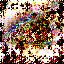

Layout of this report page (visuals, bound fields, positions):
{"tool":"powerbi","page":{"name":"第 1 頁","canvas":[1280,720],"ordinal":0},"visuals":[{"type":"lineChart","title":"Mobilenetv3_small","fields":{"Category":["Sheet1.Epoch"],"Y":["Sum(Sheet1.train_acc)"],"Y2":["Sum(Sheet1.train_loss)"]},"box":[289.5,171.5,819.2,414.4],"z":0}]}

Visuals, with their boxes on the page's 1280x720 design canvas (x1, y1, x2, y2). These are canvas units, not pixel positions in the 64x64 screenshot, which may show the page scaled, cropped or inside an application window:
"Mobilenetv3_small" lineChart: 290:172:1109:586
